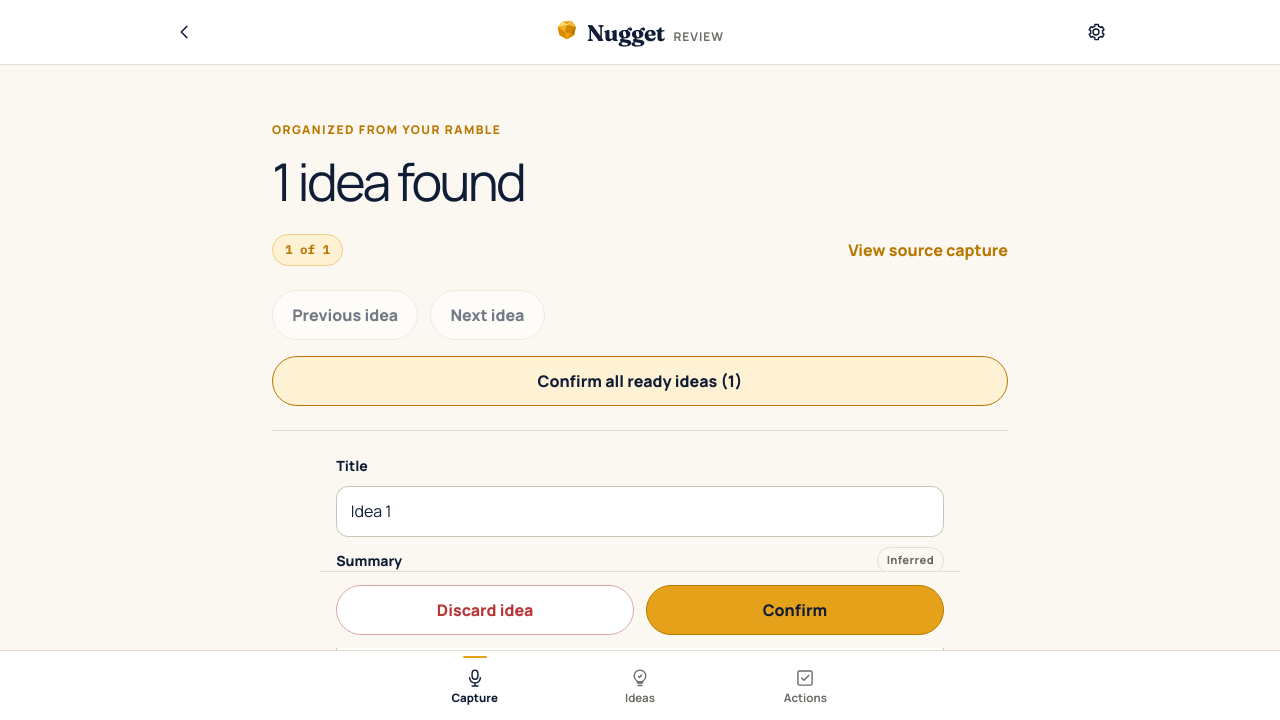
Test: ReviewScreen multi-idea confirmation › renders a truthful completed state after discarding the last candidate
Expected: the heading "1 idea found" is shown, [272, 146, 524, 217]
Click the button "Discard idea". click: (485, 610)
box: [336, 585, 634, 635]
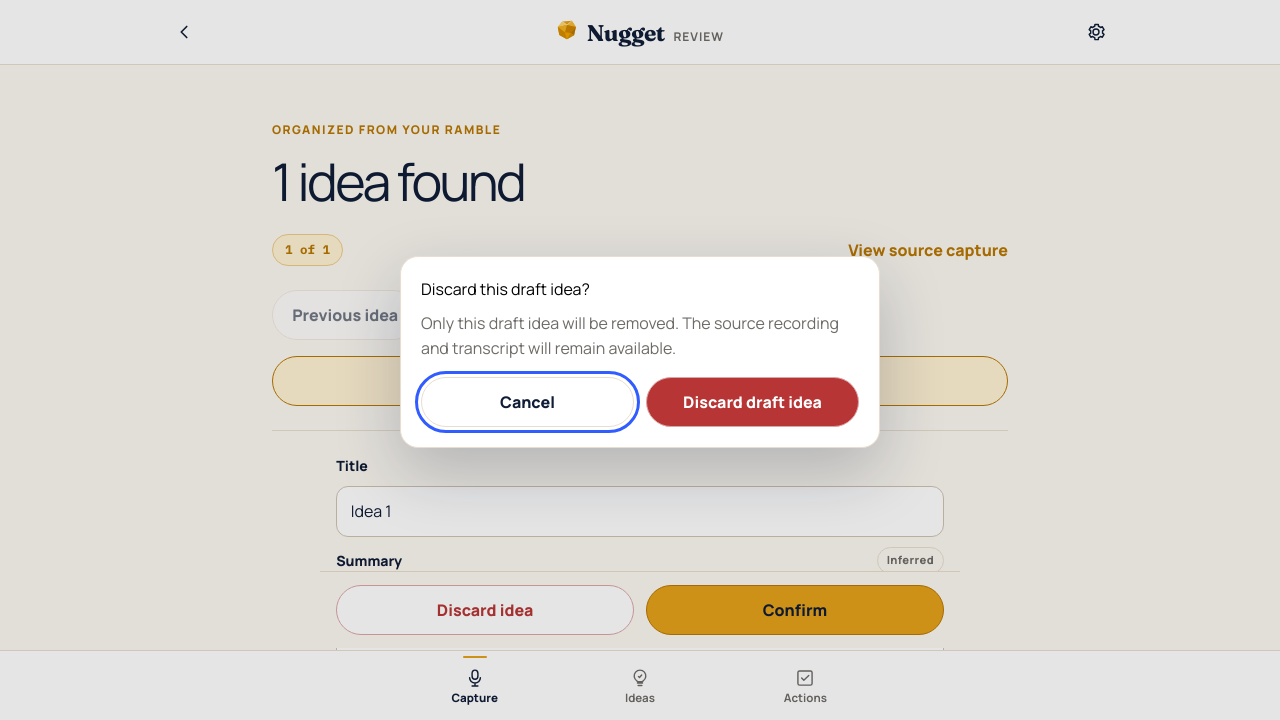
Click the button "Discard draft idea". click: (752, 402)
box: [646, 377, 859, 427]
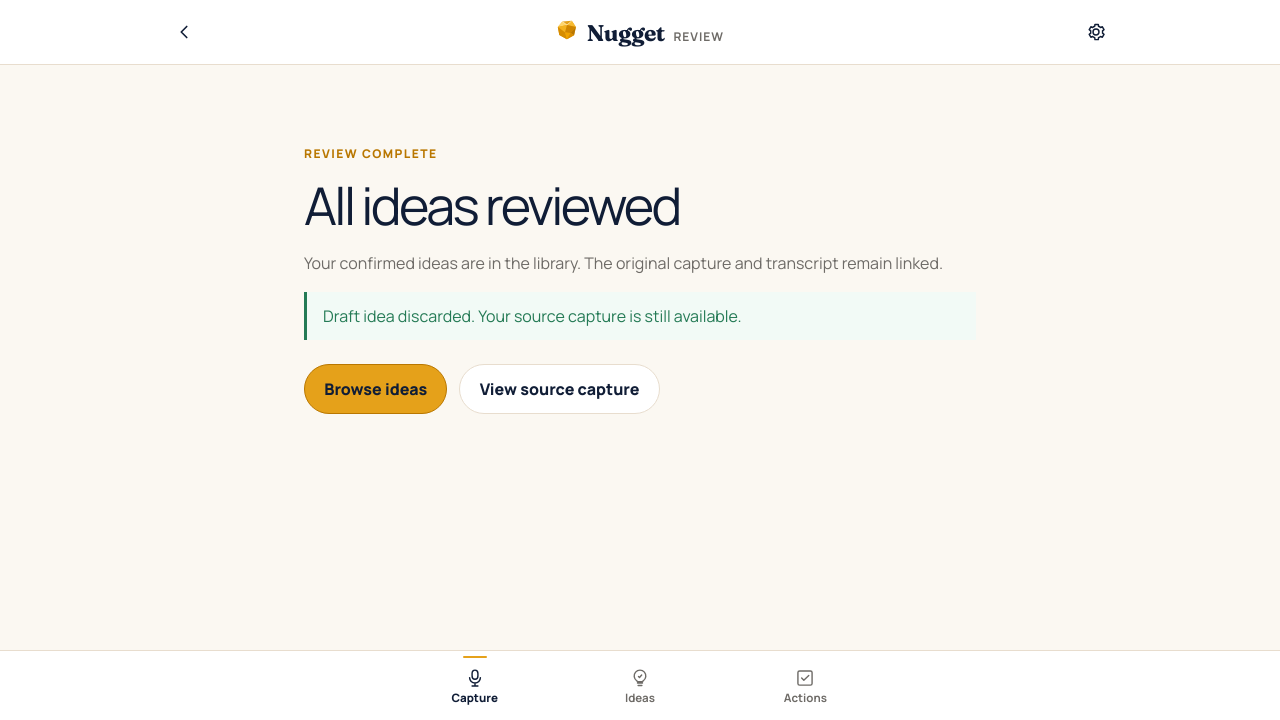
Result: the heading "All ideas reviewed" is shown at [304, 170, 680, 241]
